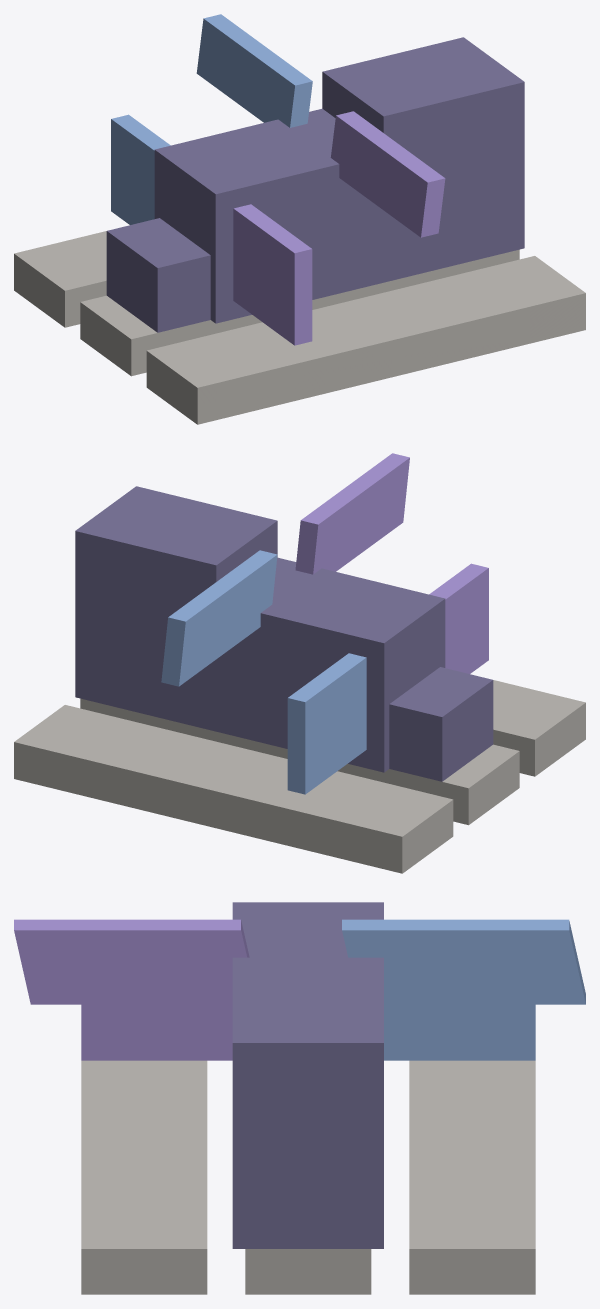
File: hy4_mariposa_rojo_20261113.glb
3 renders of one model, top to bottom at view 1: azimuth 30°, elevation 25°; view 2: azimuth 150°, elevation 25°; view 3: azimuth 270°, elevation 25°, orthographic. The views are drawn at different scales.
Parts seen in each view (by area): view 1: SM_Mariposa_Cuerpo_NOFUNDIR, SM_Mariposa_Rodela_NOFUNDIR, SM_Mariposa_Ala_L_NOFUNDIR, SM_Mariposa_Ala_R_NOFUNDIR; view 2: SM_Mariposa_Cuerpo_NOFUNDIR, SM_Mariposa_Rodela_NOFUNDIR, SM_Mariposa_Ala_R_NOFUNDIR, SM_Mariposa_Ala_L_NOFUNDIR; view 3: SM_Mariposa_Rodela_NOFUNDIR, SM_Mariposa_Cuerpo_NOFUNDIR, SM_Mariposa_Ala_L_NOFUNDIR, SM_Mariposa_Ala_R_NOFUNDIR.
Part boxes in pixels (x1,y1,x2,y2): SM_Mariposa_Cuerpo_NOFUNDIR: (106,37,524,332); SM_Mariposa_Rodela_NOFUNDIR: (14,231,585,424); SM_Mariposa_Ala_L_NOFUNDIR: (233,111,445,345); SM_Mariposa_Ala_R_NOFUNDIR: (111,14,312,224); SM_Mariposa_Cuerpo_NOFUNDIR: (75,486,493,781); SM_Mariposa_Rodela_NOFUNDIR: (14,680,585,873); SM_Mariposa_Ala_R_NOFUNDIR: (161,550,366,794); SM_Mariposa_Ala_L_NOFUNDIR: (295,453,488,673); SM_Mariposa_Rodela_NOFUNDIR: (81,1060,535,1294); SM_Mariposa_Cuerpo_NOFUNDIR: (232,902,383,1248); SM_Mariposa_Ala_L_NOFUNDIR: (14,919,249,1060); SM_Mariposa_Ala_R_NOFUNDIR: (342,919,585,1060).
Bounding box in the file's own units: 0.44 × 0.23 × 0.4533.
